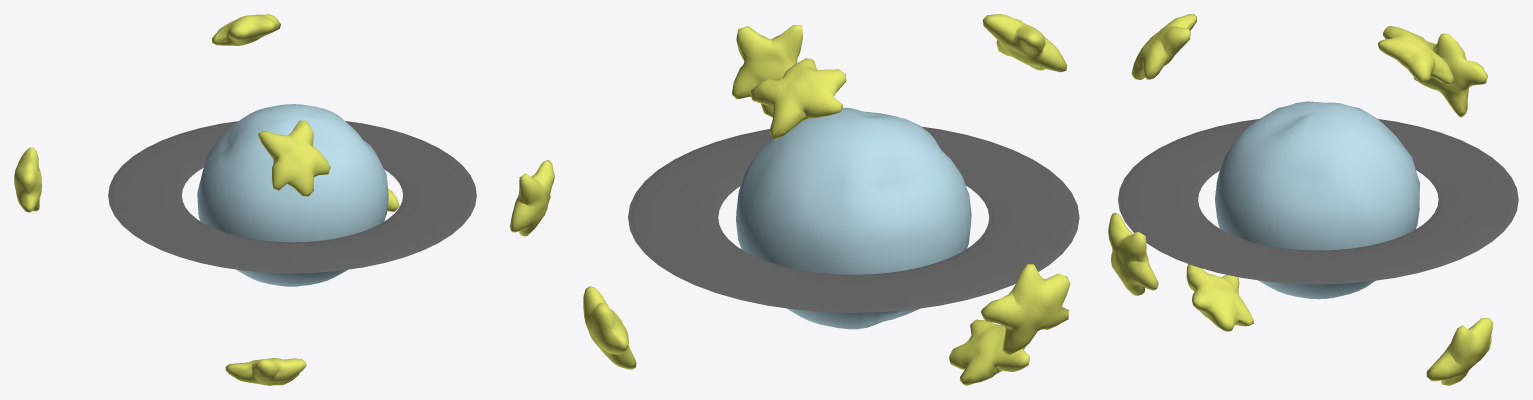
The model's file is planet 10.fbx.
3 renders of one model, left to right at view 1: azimuth 30°, elevation 25°; view 2: azimuth 150°, elevation 25°; view 3: azimuth 270°, elevation 25°, orthographic. The views are drawn at different scales.
Visible parts, largest first — view 1: Torus.001, Sphere, star4, star6, star2, Star1, star3; view 2: Torus.001, Sphere, star3, Star1, star6, star2, star4, star5; view 3: Torus.001, Sphere, star2, star6, star5, Star1, star3, star4.
Boxes of the visible parts, <box> form: Torus.001: <box>108,121,476,273</box>; Sphere: <box>197,104,388,286</box>; star4: <box>258,120,330,196</box>; star6: <box>510,160,554,236</box>; star2: <box>225,358,306,385</box>; Star1: <box>212,14,280,45</box>; star3: <box>14,147,41,212</box>; Torus.001: <box>628,126,1079,312</box>; Sphere: <box>736,107,971,329</box>; star3: <box>981,264,1070,355</box>; Star1: <box>750,58,846,140</box>; star6: <box>732,25,802,117</box>; star2: <box>949,319,1029,385</box>; star4: <box>983,14,1067,72</box>; star5: <box>583,286,636,369</box>; Torus.001: <box>1118,119,1518,284</box>; Sphere: <box>1215,101,1419,299</box>; star2: <box>1186,264,1253,331</box>; star6: <box>1108,212,1158,295</box>; star5: <box>1426,318,1493,385</box>; Star1: <box>1378,26,1454,84</box>; star3: <box>1413,33,1487,117</box>; star4: <box>1131,14,1196,79</box>.
Size of the model in its own units: 313 by 222 by 256.
